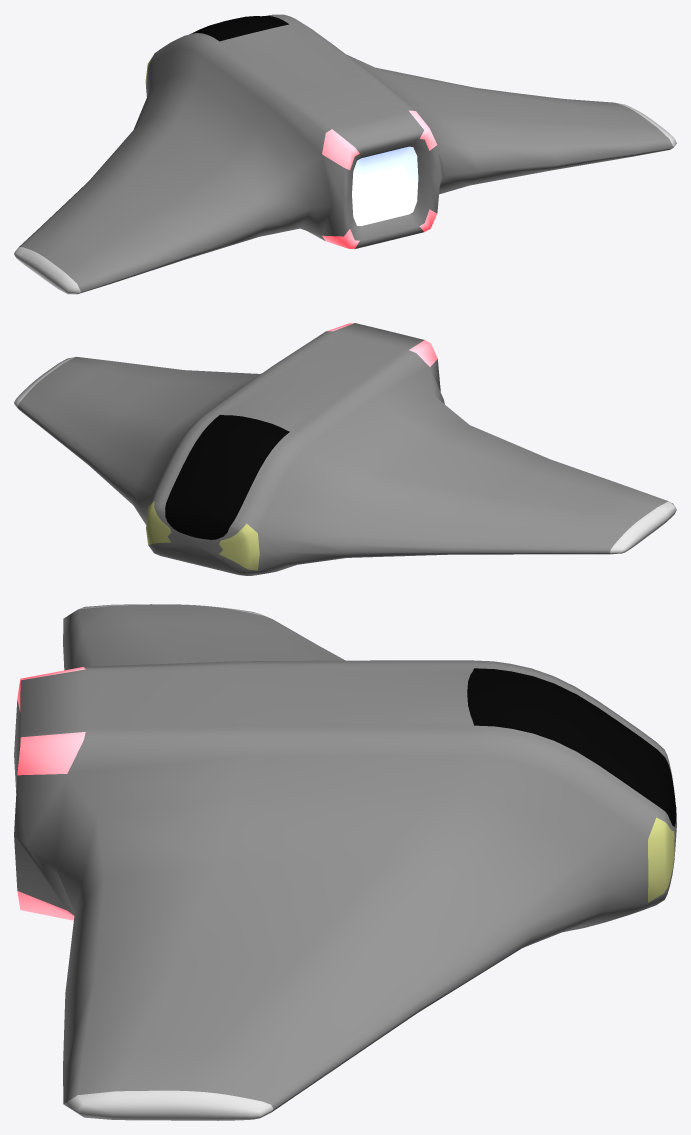
Rendered from Spaceship1.fbx.
The picture shows the model from 3 angles, top to bottom: view 1: azimuth 30°, elevation 25°; view 2: azimuth 150°, elevation 25°; view 3: azimuth 270°, elevation 25°; orthographic projection. The views are drawn at different scales.
Parts seen in each view (by area): view 1: Ship; view 2: Ship; view 3: Ship.
Part boxes in pixels (x1,y1,x2,y2): Ship: (14, 14, 676, 294); Ship: (14, 323, 676, 575); Ship: (14, 604, 676, 1120).
Bounding box in the file's own units: 882 × 165 × 493.
